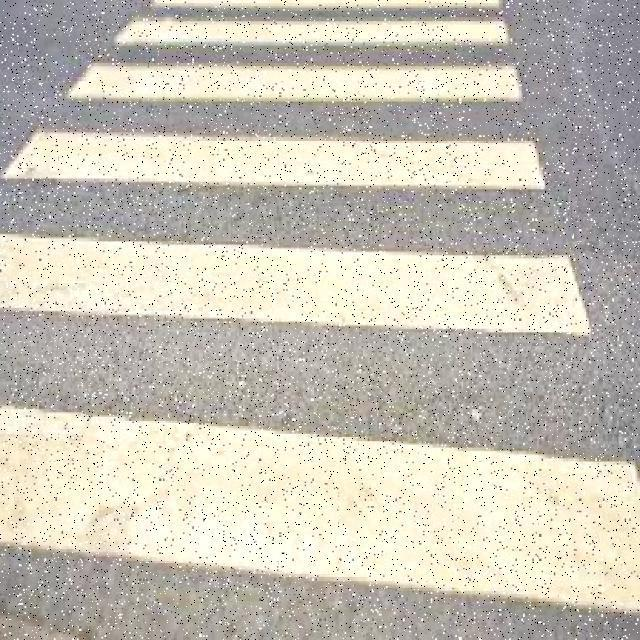Pedestrian crosswalk: (2, 0, 640, 620)
